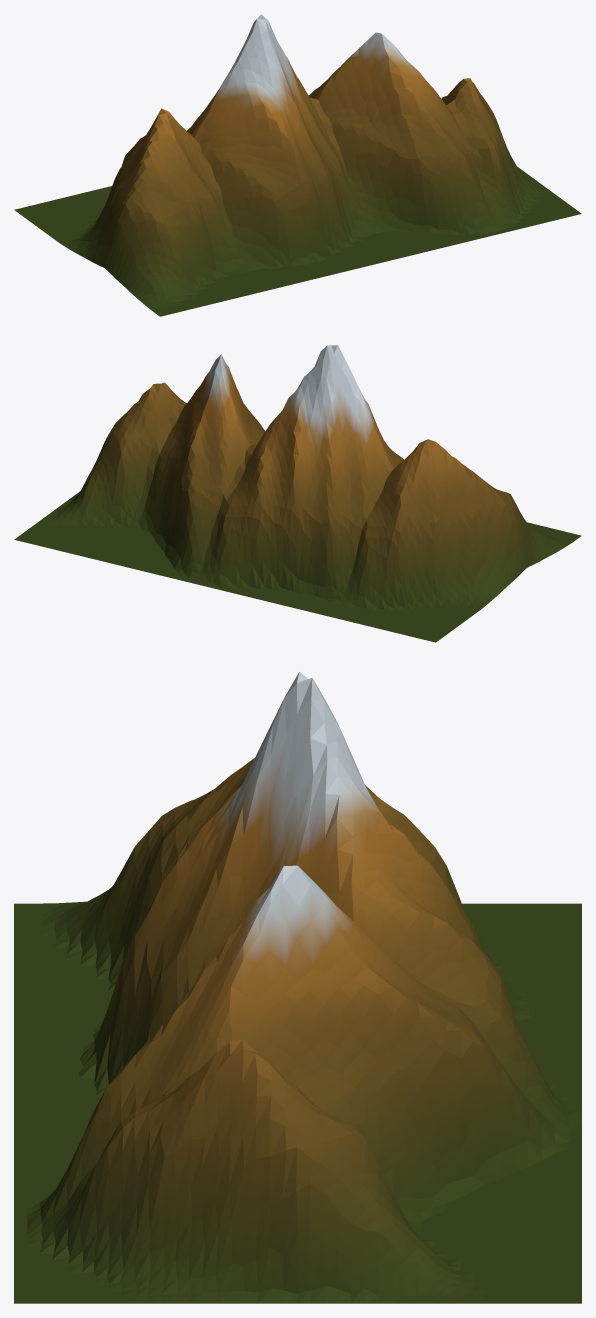
The model's file is Snow_Small.fbx.
3 views of the same model, one above another, from view 1: azimuth 30°, elevation 25°; view 2: azimuth 150°, elevation 25°; view 3: azimuth 270°, elevation 25° (orthographic). The views are drawn at different scales.
Parts seen in each view (by area): view 1: Snow_Small; view 2: Snow_Small; view 3: Snow_Small.
Boxes of the visible parts, left/top/right/bottom form: Snow_Small: left=14, top=14, right=581, bottom=316; Snow_Small: left=14, top=345, right=581, bottom=642; Snow_Small: left=14, top=671, right=581, bottom=1303.
Size of the model in its own units: 1200 by 552 by 720.
